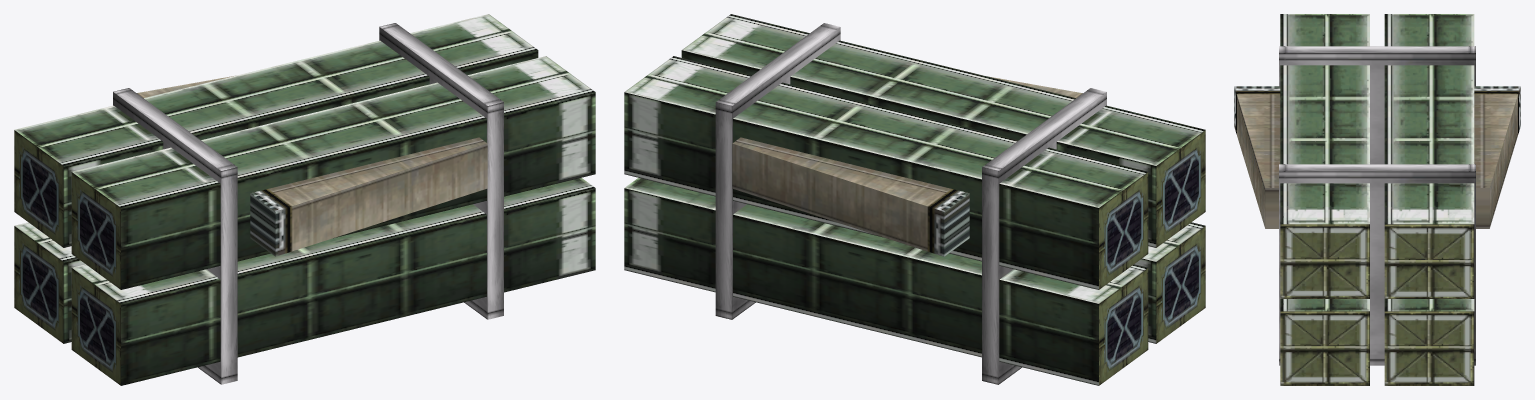
3 views of the same model, side by side, from view 1: azimuth 30°, elevation 25°; view 2: azimuth 150°, elevation 25°; view 3: azimuth 270°, elevation 25° (orthographic). The views are drawn at different scales.
Parts seen in each view (by area): view 1: m2, m1; view 2: m2, m1; view 3: m2, m1.
Boxes of the visible parts, left/top/right/bottom form: m2: left=14, top=14, right=595, bottom=385; m1: left=113, top=23, right=503, bottom=384; m2: left=624, top=14, right=1205, bottom=385; m1: left=715, top=23, right=1106, bottom=384; m2: left=1234, top=14, right=1520, bottom=385; m1: left=1279, top=46, right=1475, bottom=365.
Bounding box in the file's own units: 15.74 × 6.77 × 9.04.
